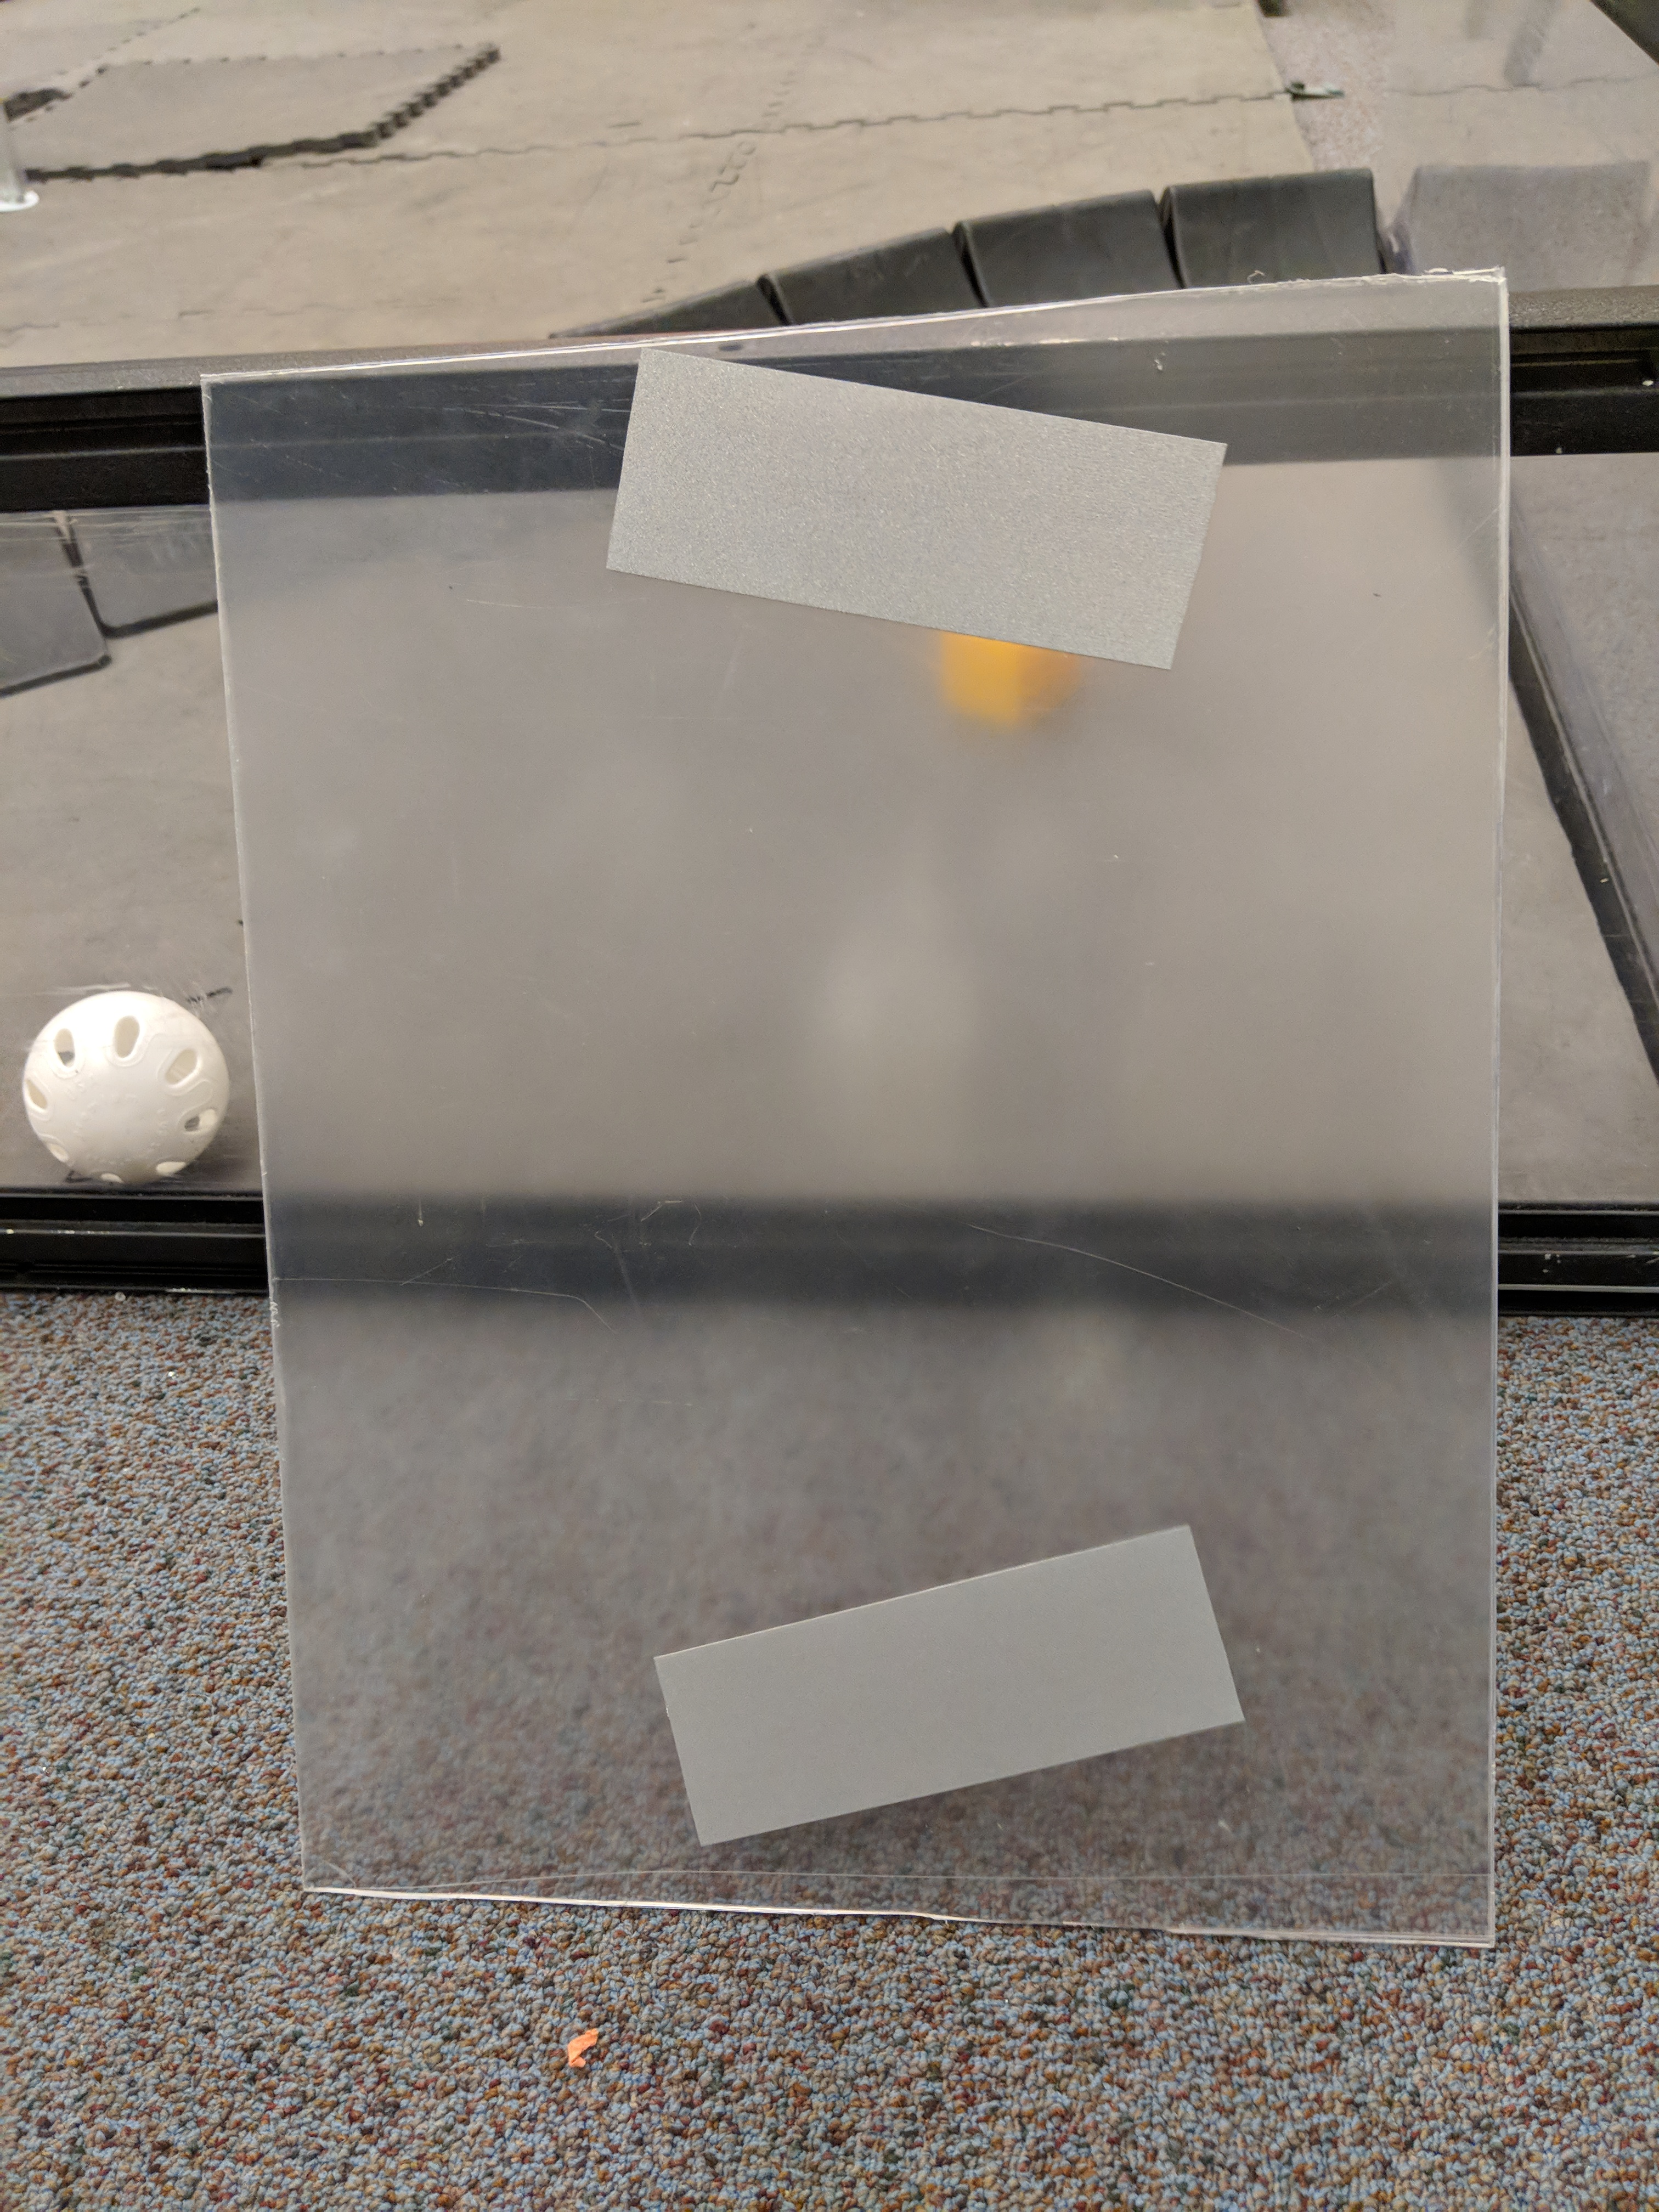vision_target: (573, 322, 1276, 1876)
